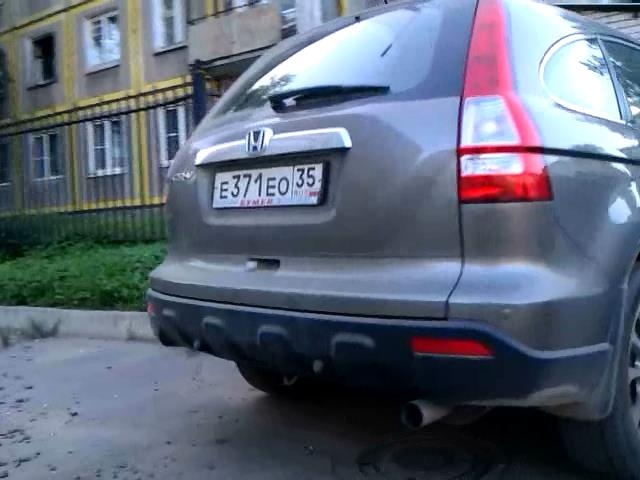car license plate: (210, 163, 329, 207)
